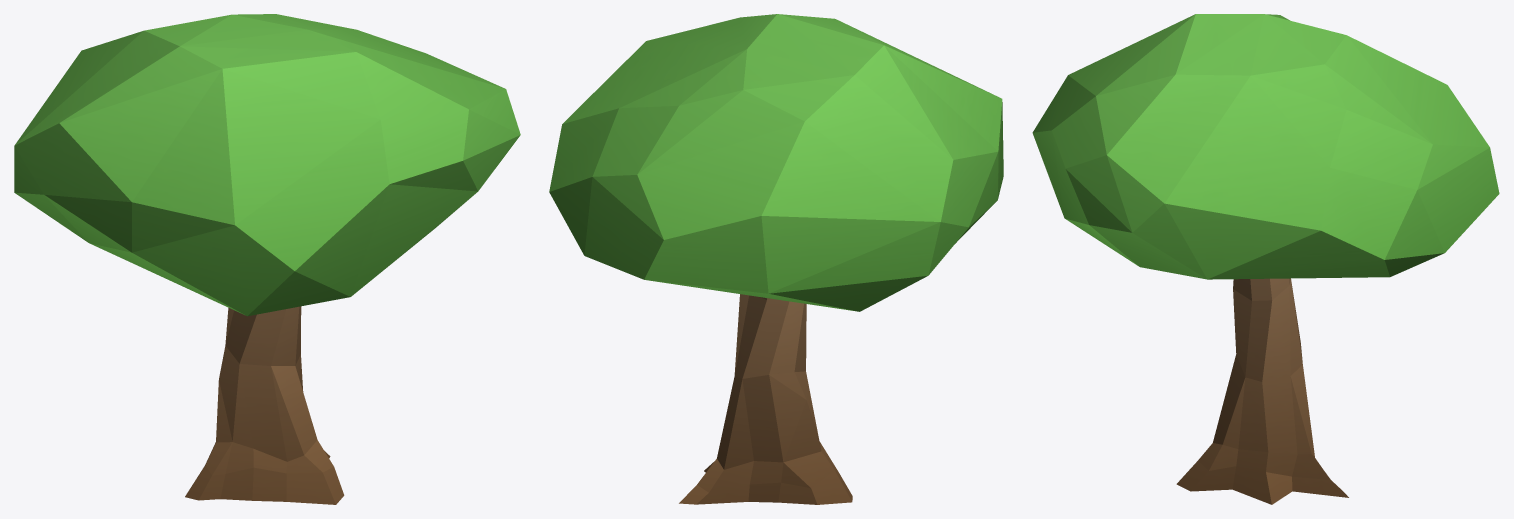
Rendered from tree_mammoth_green.fbx.
3 views of the same model, side by side, from view 1: azimuth 30°, elevation 25°; view 2: azimuth 150°, elevation 25°; view 3: azimuth 270°, elevation 25° (orthographic). The views are drawn at different scales.
Parts seen in each view (by area): view 1: tree_mammoth_green; view 2: tree_mammoth_green; view 3: tree_mammoth_green.
Boxes of the visible parts, bbox=[...] form: tree_mammoth_green: bbox=[14, 14, 520, 504]; tree_mammoth_green: bbox=[549, 14, 1003, 504]; tree_mammoth_green: bbox=[1032, 14, 1499, 504].
Size of the model in its own units: 7.5 by 8 by 8.
1 material, 1 textured.
